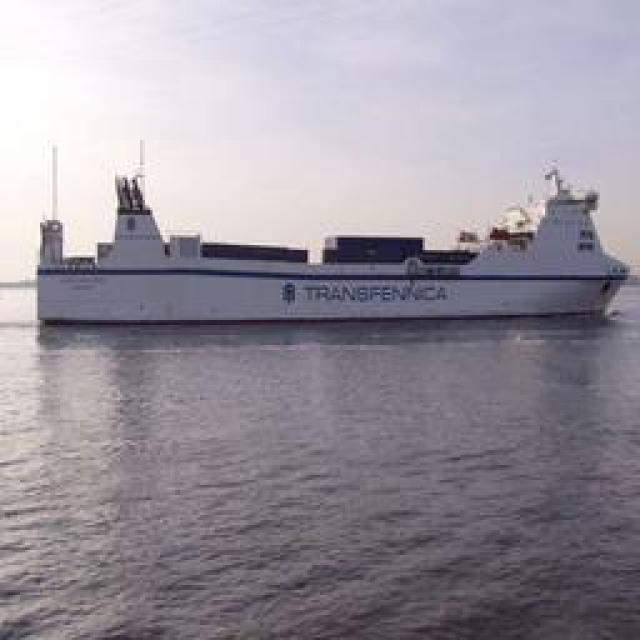CIV_Ship: (24, 152, 622, 328)
